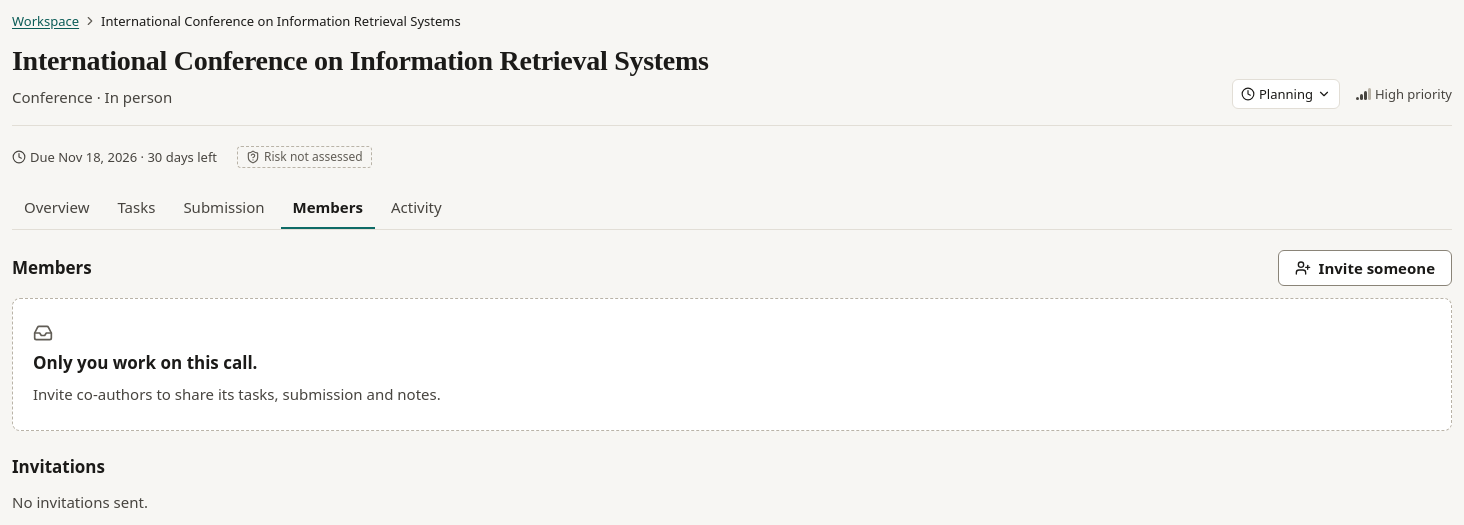
Test: roles › lets the owner change the status, add tasks and invite
Expected: the button with aria-label "Status: Planning. Change status" is shown, [1232,79,1340,109]
Expected: the button "Invite someone" is shown, [1278,250,1452,286]
Click the tab "Tasks" at (136, 209), box [105,188,167,229]
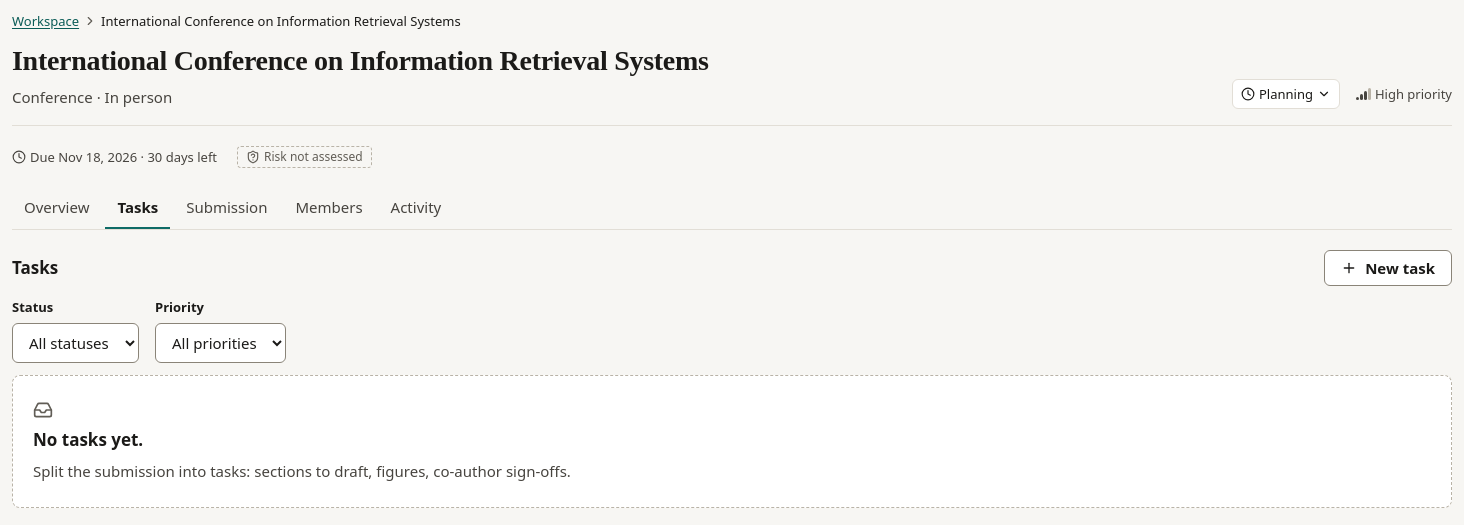
Now the button "New task" is shown, box [1324,250,1452,286]
